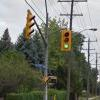Traffic light: (48, 24, 80, 65)
